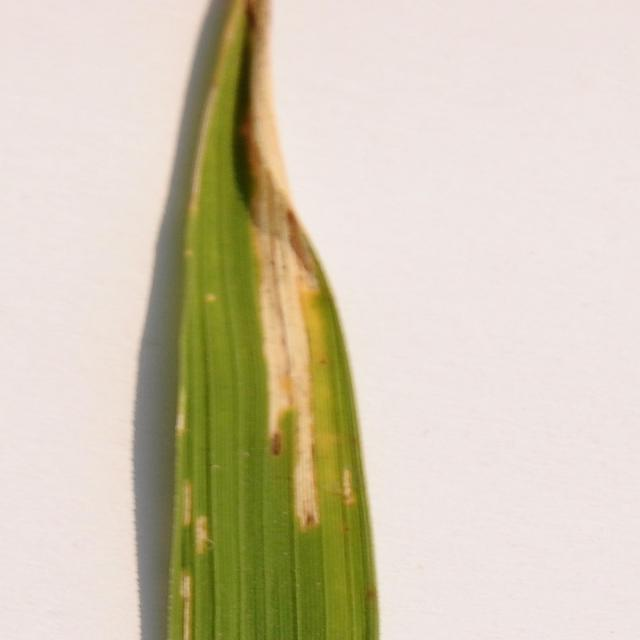leaf blight: (233, 1, 354, 521), (168, 388, 205, 636)
